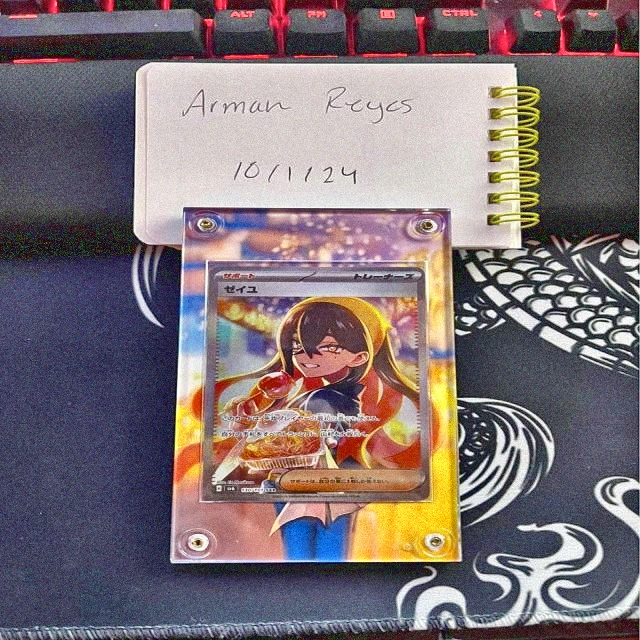card: (201, 265, 432, 503)
